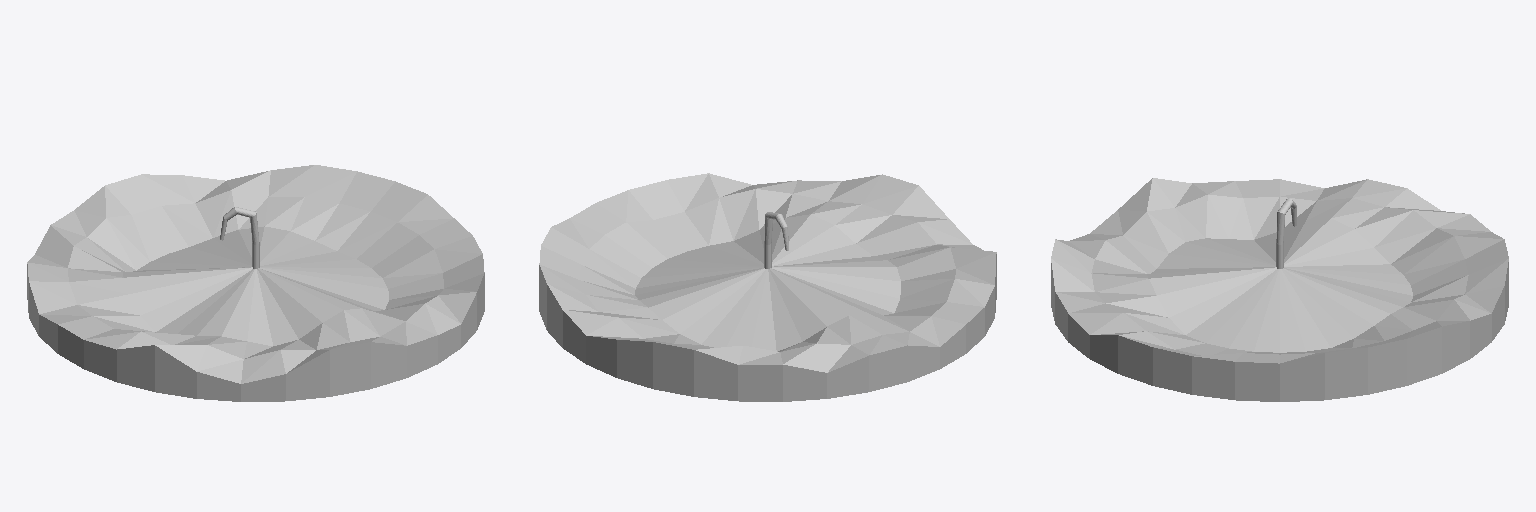
The model's file is candle_top_melted.obj.
3 views of the same model, side by side, from view 1: azimuth 30°, elevation 25°; view 2: azimuth 150°, elevation 25°; view 3: azimuth 270°, elevation 25° (orthographic).
Parts seen in each view (by area): view 1: Mesh_candle_top_melted_Circle; view 2: Mesh_candle_top_melted_Circle; view 3: Mesh_candle_top_melted_Circle.
Boxes of the visible parts, x1=… form: Mesh_candle_top_melted_Circle: x1=27, y1=165, x2=484, y2=401; Mesh_candle_top_melted_Circle: x1=539, y1=173, x2=996, y2=401; Mesh_candle_top_melted_Circle: x1=1051, y1=178, x2=1508, y2=401.
Bounding box in the file's own units: 0.5444 × 0.1299 × 0.5444.